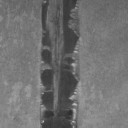slag inclusion: (39, 0, 82, 128)
